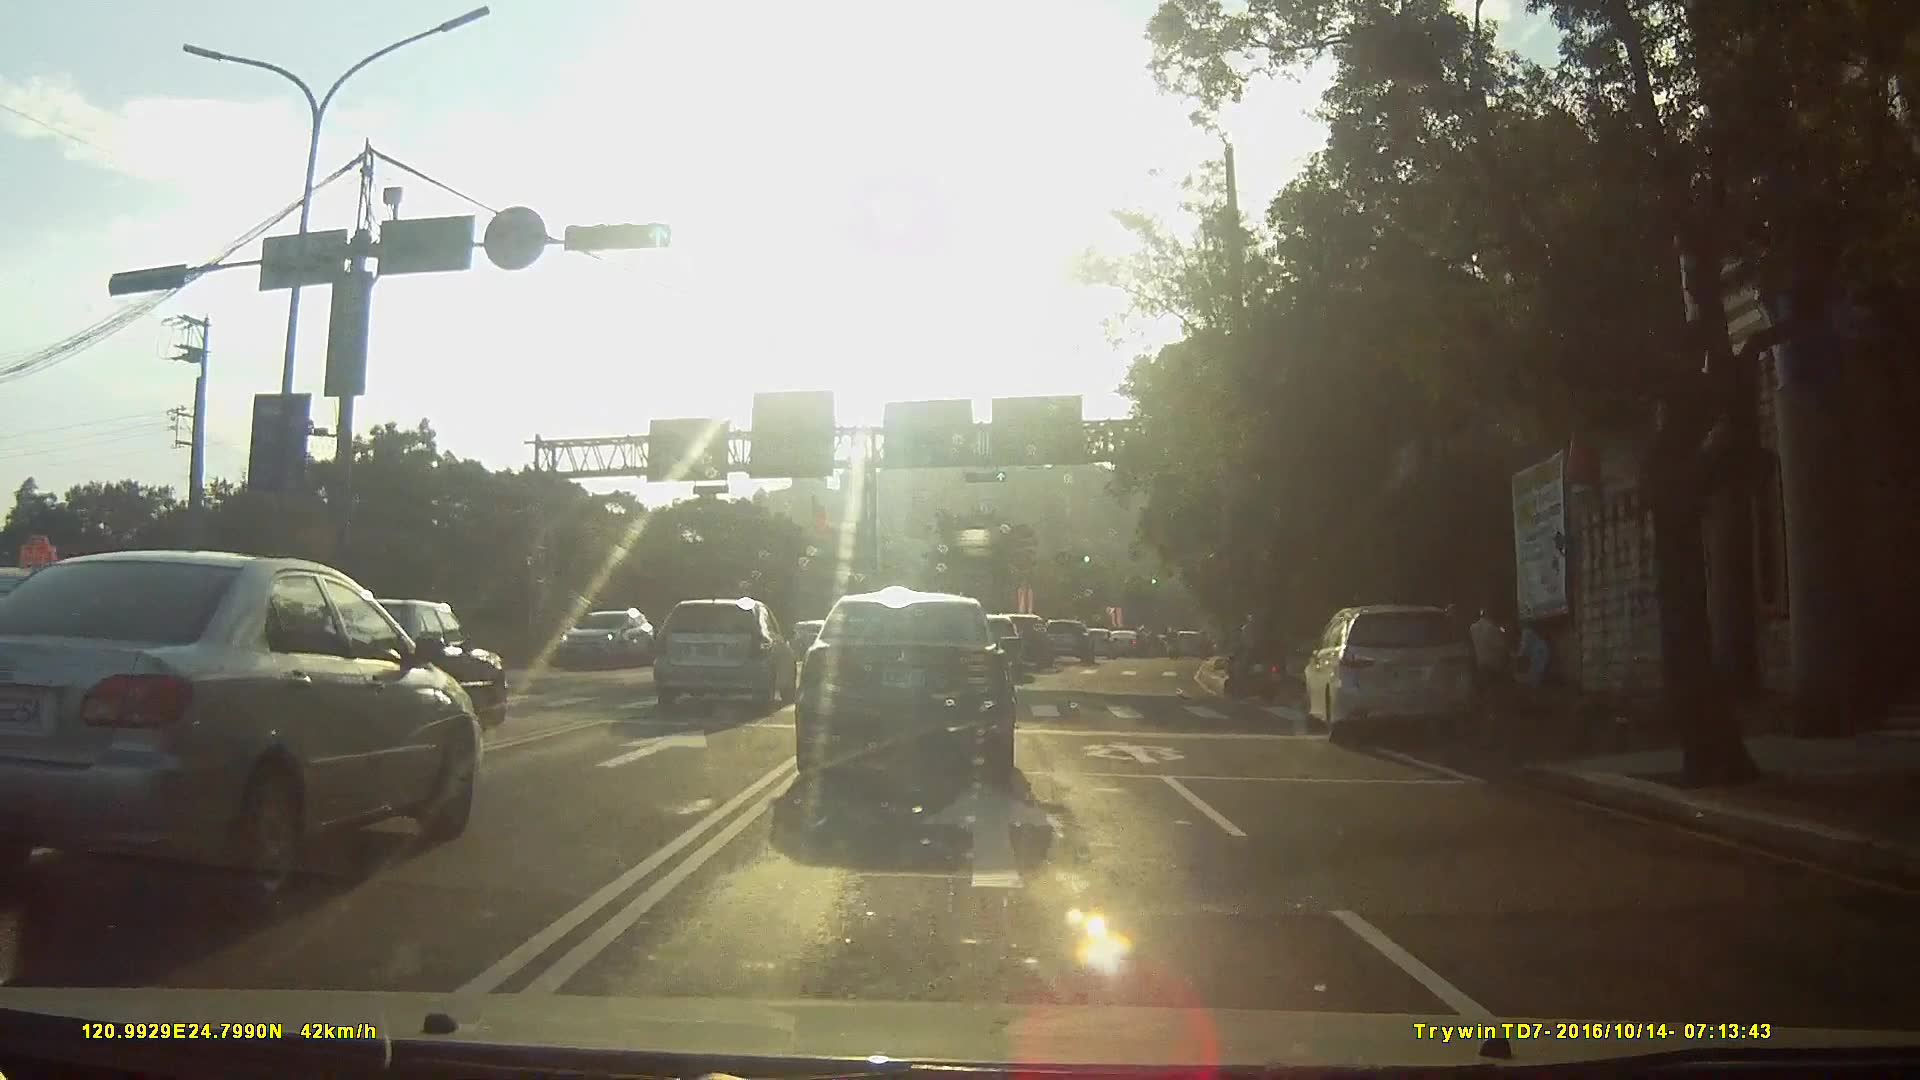pedestrian: (1475, 605, 1506, 719), (1518, 626, 1553, 700)
rider: (1224, 610, 1283, 697)
vehicle: (0, 549, 488, 909), (791, 590, 1032, 811), (295, 594, 521, 735), (1298, 600, 1493, 750), (654, 597, 802, 717), (554, 603, 659, 671), (1000, 609, 1062, 667), (1047, 617, 1103, 663), (1083, 625, 1122, 657), (1115, 629, 1144, 657)
